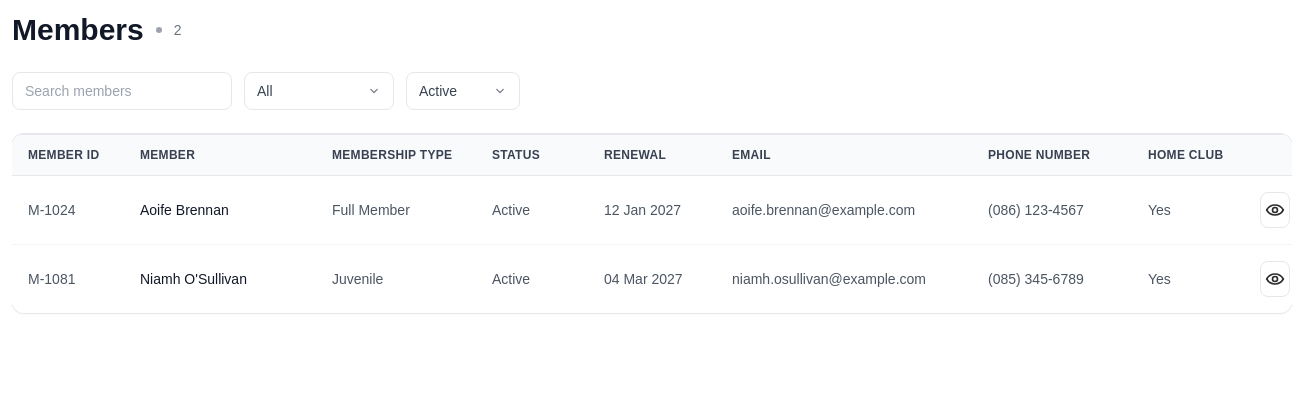
Scenario: MembersPage › rendering › should render the member count in the header
Check: the text "2" is shown, box [174, 20, 182, 40]
Select "All" in the dropdown named "filter by status" at (463, 91), box [406, 72, 520, 110]
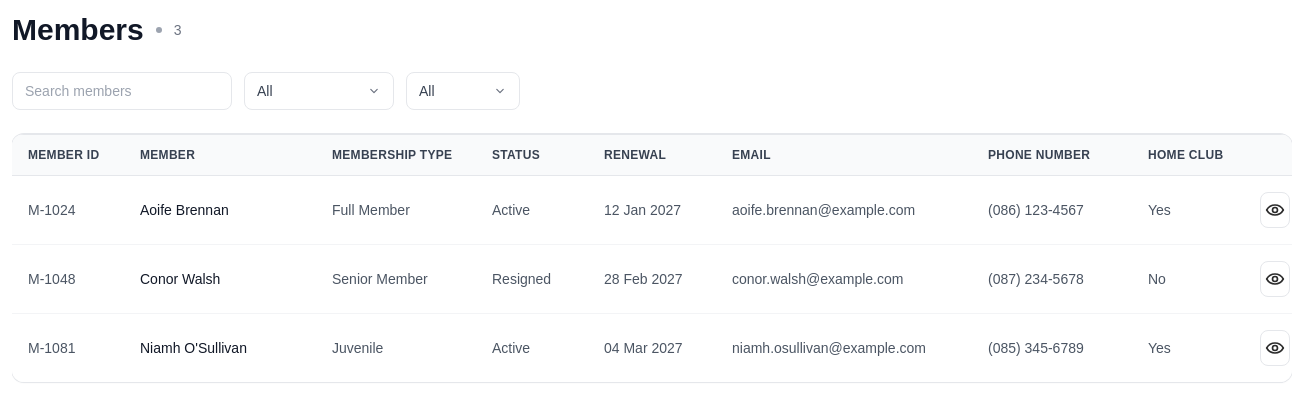
Check: the text "3" is shown, box [174, 20, 182, 40]
Select "Resigned" in the dropdown named "filter by status" at (463, 91), box [406, 72, 520, 110]
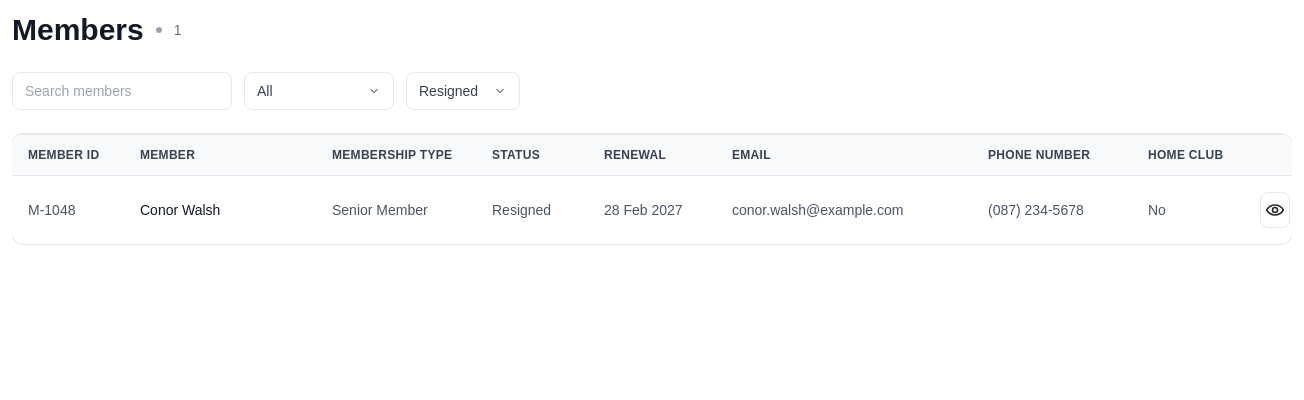
Check: the text "1" is shown, box [174, 20, 182, 40]
